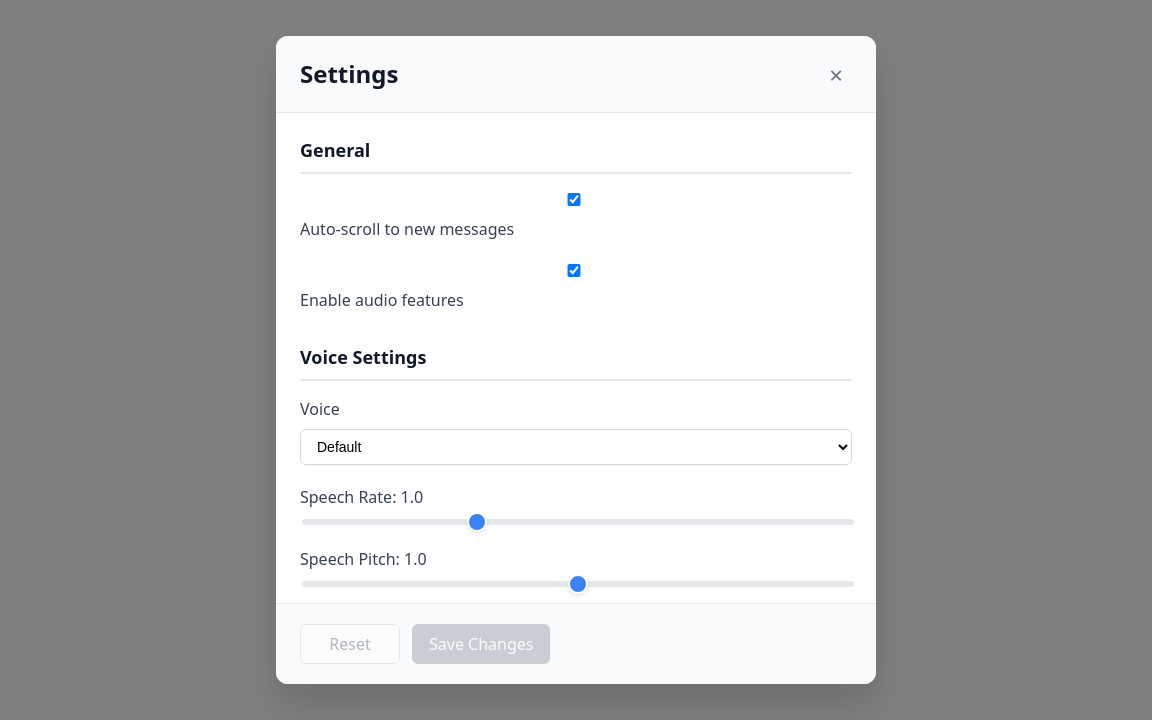
Test: SettingsPanel › Validation › handles range input changes
Set the slider labelled "Speech Rate: 1.0" to "2.0" at (661, 522), box [302,519,854,525]
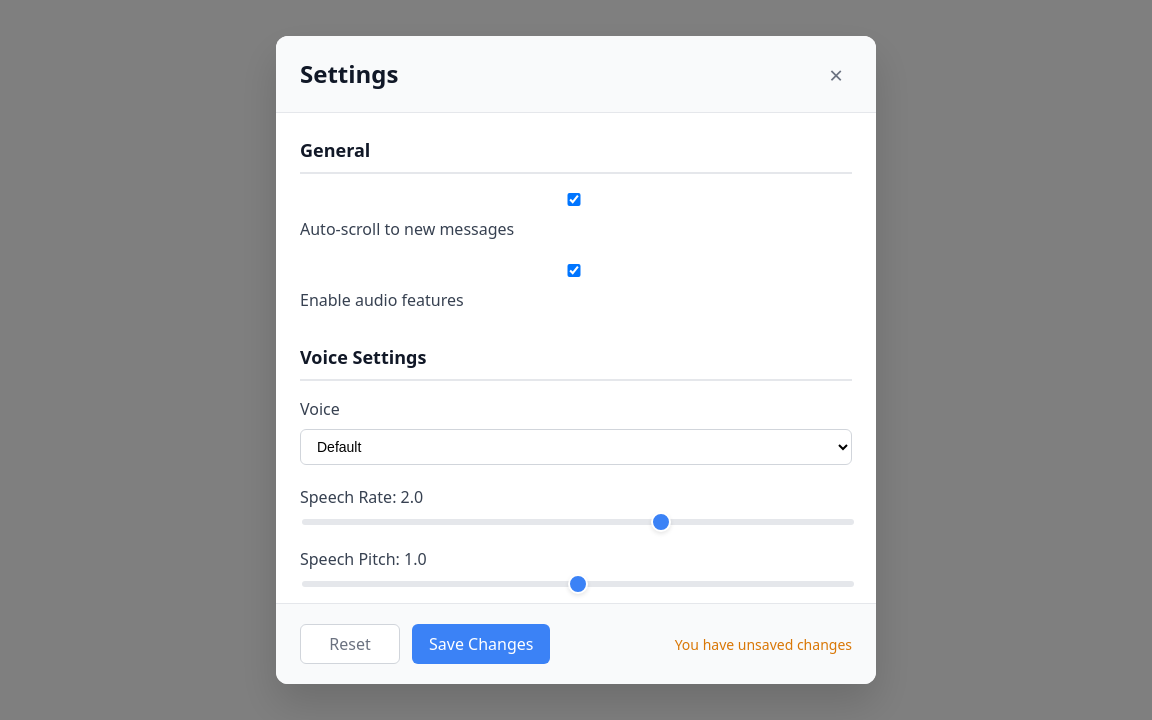
Expected: the slider labelled "Speech Rate: 2.0" holds "2", [302,519,854,525]
